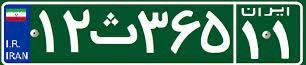character: (89, 9, 139, 52), (199, 5, 233, 60), (168, 5, 201, 61), (136, 8, 171, 58), (60, 7, 93, 57), (33, 7, 58, 57), (239, 18, 262, 61), (270, 17, 293, 60)
